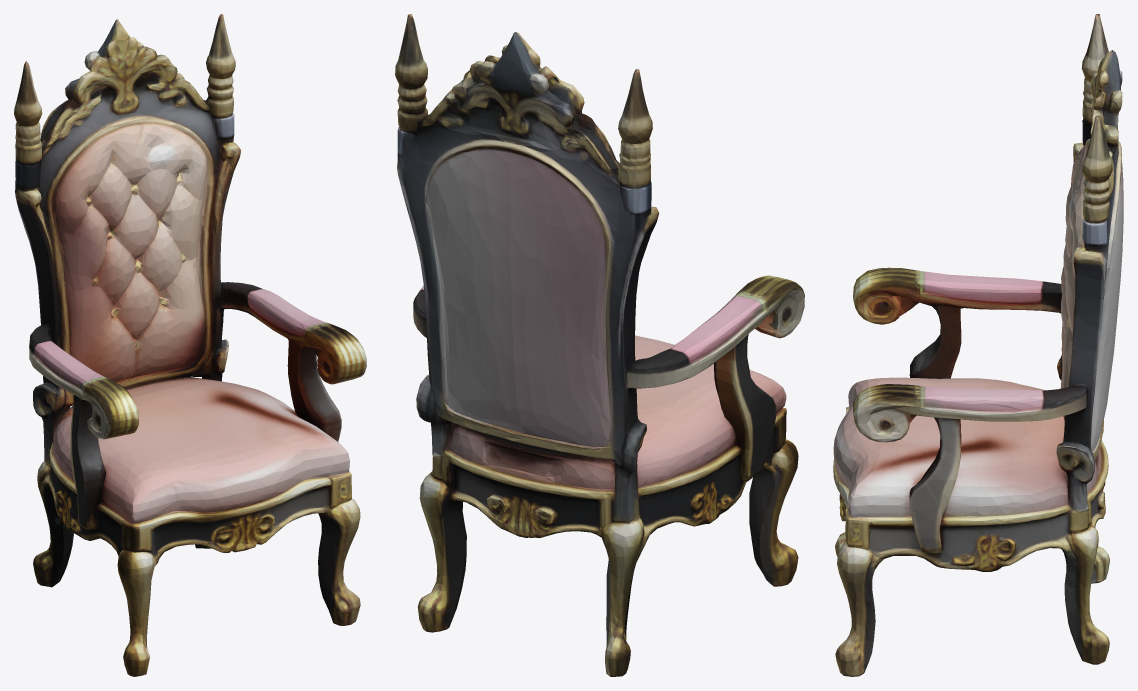
File: chair_trellis.glb
3 views of the same model, side by side, from view 1: azimuth 30°, elevation 25°; view 2: azimuth 150°, elevation 25°; view 3: azimuth 270°, elevation 25° (orthographic). The views are drawn at different scales.
Bounding box in the file's own units: 0.505 × 1 × 0.4629.
1 material, 1 textured.
